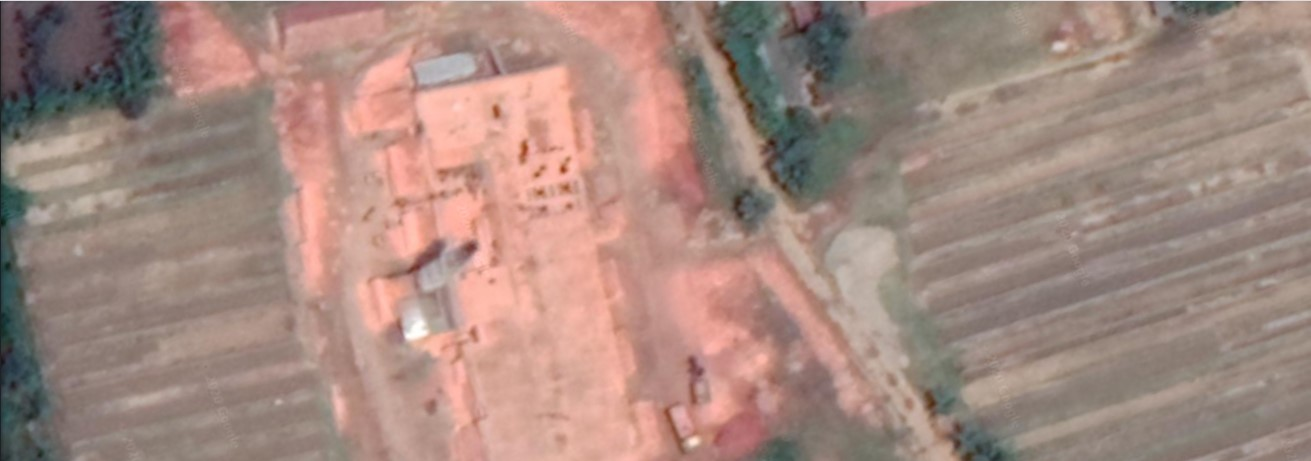kiln: (352, 95, 668, 455)
